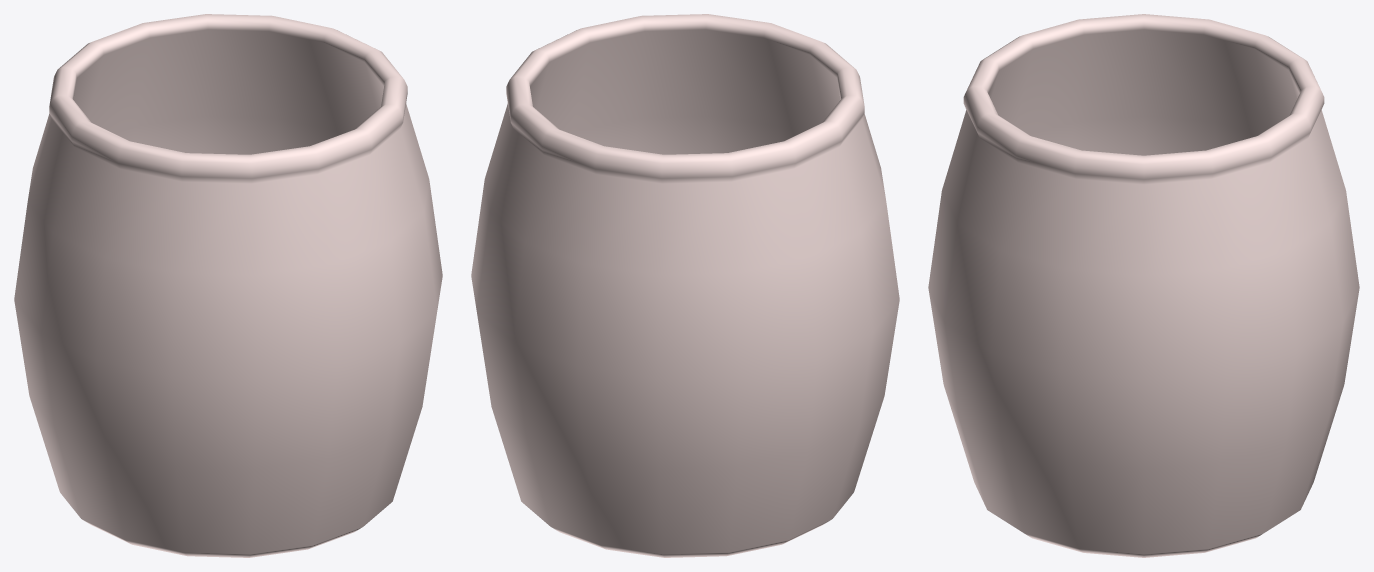
Rendered from Public_8_Cup_2.glb.
The picture shows the model from 3 angles, left to right: view 1: azimuth 30°, elevation 25°; view 2: azimuth 150°, elevation 25°; view 3: azimuth 270°, elevation 25°; orthographic projection.
Parts seen in each view (by area): view 1: Public_8_Cup_2; view 2: Public_8_Cup_2; view 3: Public_8_Cup_2.
Part boxes in pixels (x1,y1,x2,y2): Public_8_Cup_2: (14,14,442,557); Public_8_Cup_2: (471,14,899,557); Public_8_Cup_2: (928,14,1359,557).
Size of the model in its own units: 0.533 by 0.5518 by 0.533.
1 material, 1 textured.
